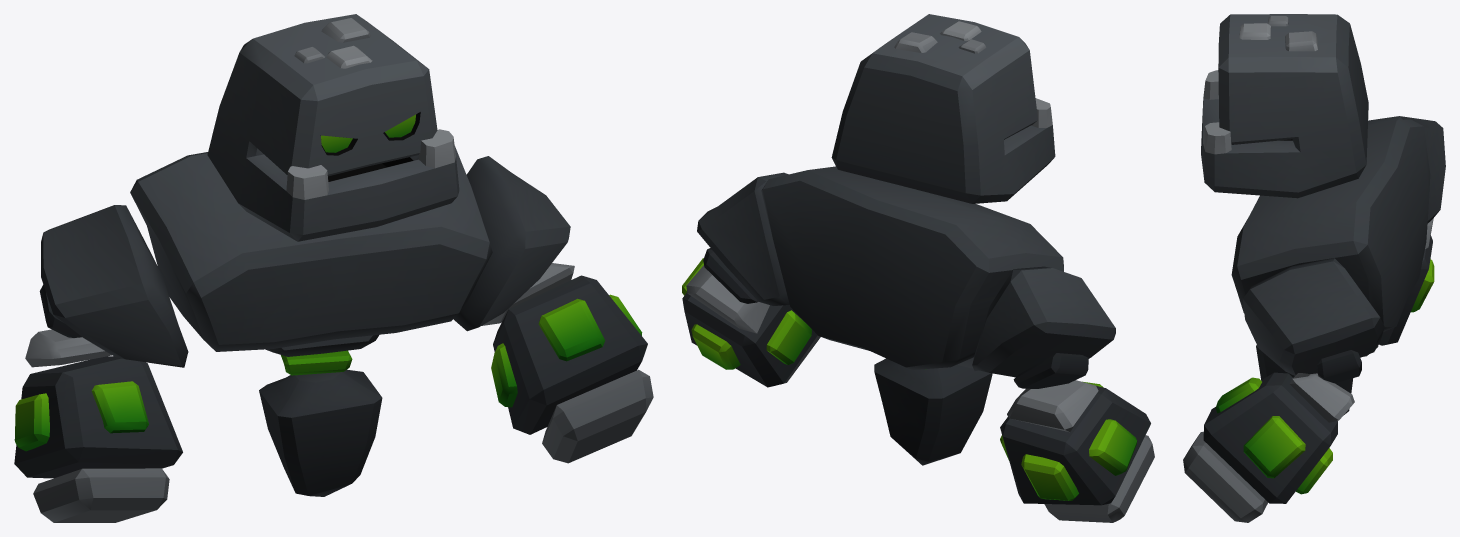
The model's file is GolemEarth.gltf.
The picture shows the model from 3 angles, left to right: view 1: azimuth 30°, elevation 25°; view 2: azimuth 150°, elevation 25°; view 3: azimuth 270°, elevation 25°; orthographic projection. The views are drawn at different scales.
Parts seen in each view (by area): view 1: Golem_Earth; view 2: Golem_Earth; view 3: Golem_Earth.
Boxes of the visible parts, x1,y1,x2,y2 form: Golem_Earth: (14,14,653,522); Golem_Earth: (682,14,1154,522); Golem_Earth: (1183,14,1445,522).
Size of the model in its own units: 2.61 by 2.12 by 1.23.
1 material, 1 textured.
